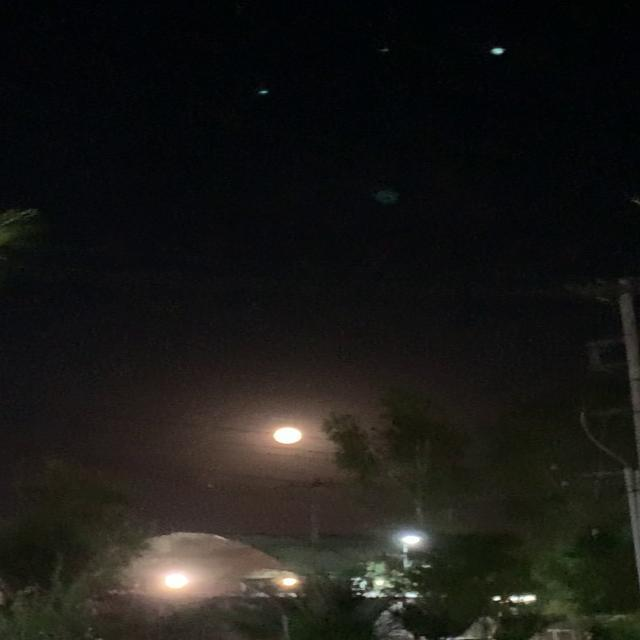moon: (262, 426, 314, 450)
